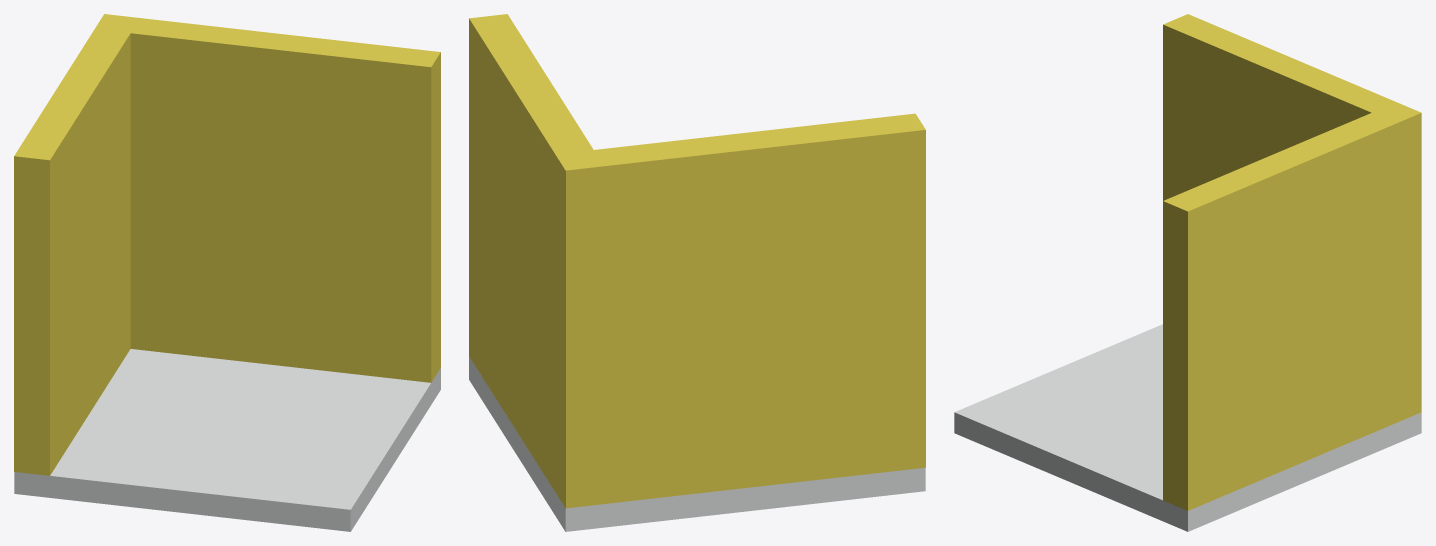
File: duvar 1.1.3.fbx
The picture shows the model from 3 angles, left to right: view 1: azimuth 30°, elevation 25°; view 2: azimuth 150°, elevation 25°; view 3: azimuth 270°, elevation 25°; orthographic projection. The views are drawn at different scales.
Visible parts, largest first — view 1: pCube12; view 2: pCube12; view 3: pCube12.
Part boxes in pixels (bbox=[...]): pCube12: bbox=[14, 14, 440, 531]; pCube12: bbox=[469, 14, 925, 531]; pCube12: bbox=[954, 14, 1421, 531].
Bounding box in the file's own units: 1796 × 1358 × 1795.
